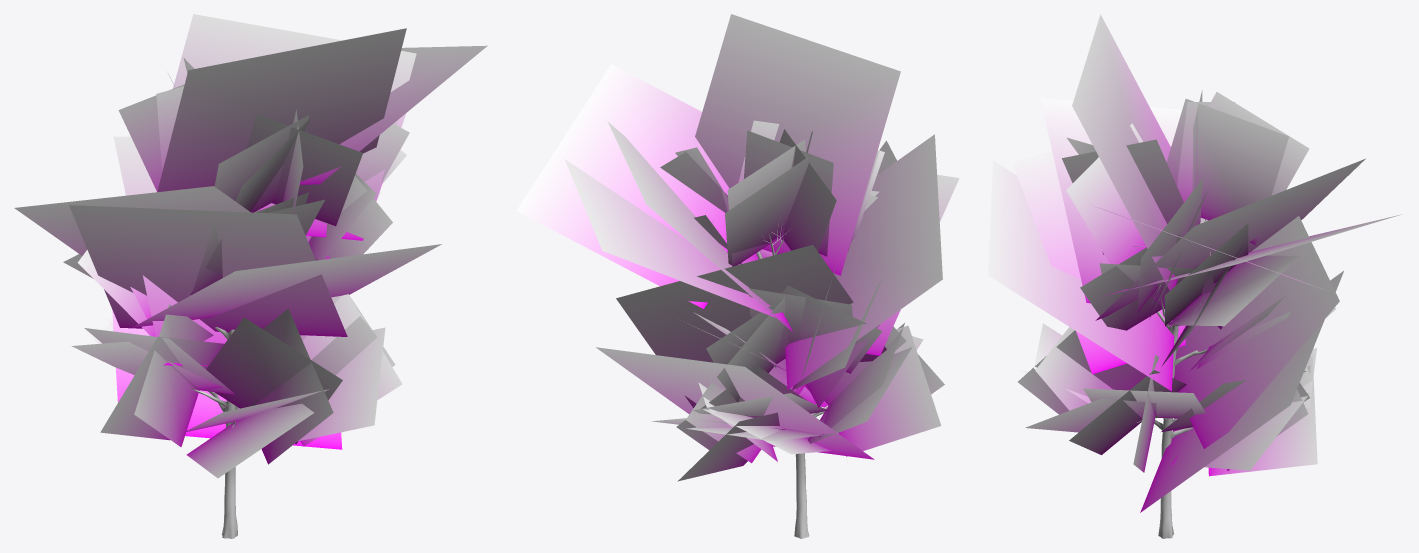
File: Tree_C.FBX
3 renders of one model, left to right at view 1: azimuth 30°, elevation 25°; view 2: azimuth 150°, elevation 25°; view 3: azimuth 270°, elevation 25°, orthographic. The views are drawn at different scales.
Parts seen in each view (by area): view 1: Tree_C; view 2: Tree_C; view 3: Tree_C.
Part boxes in pixels (<box>): Tree_C: <box>14,14,487,538</box>; Tree_C: <box>516,14,959,538</box>; Tree_C: <box>988,14,1400,538</box>.
Size of what is drawn, in the model's own units: 728 by 847 by 654.
